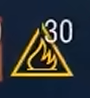1fire: (9, 45, 76, 79)
